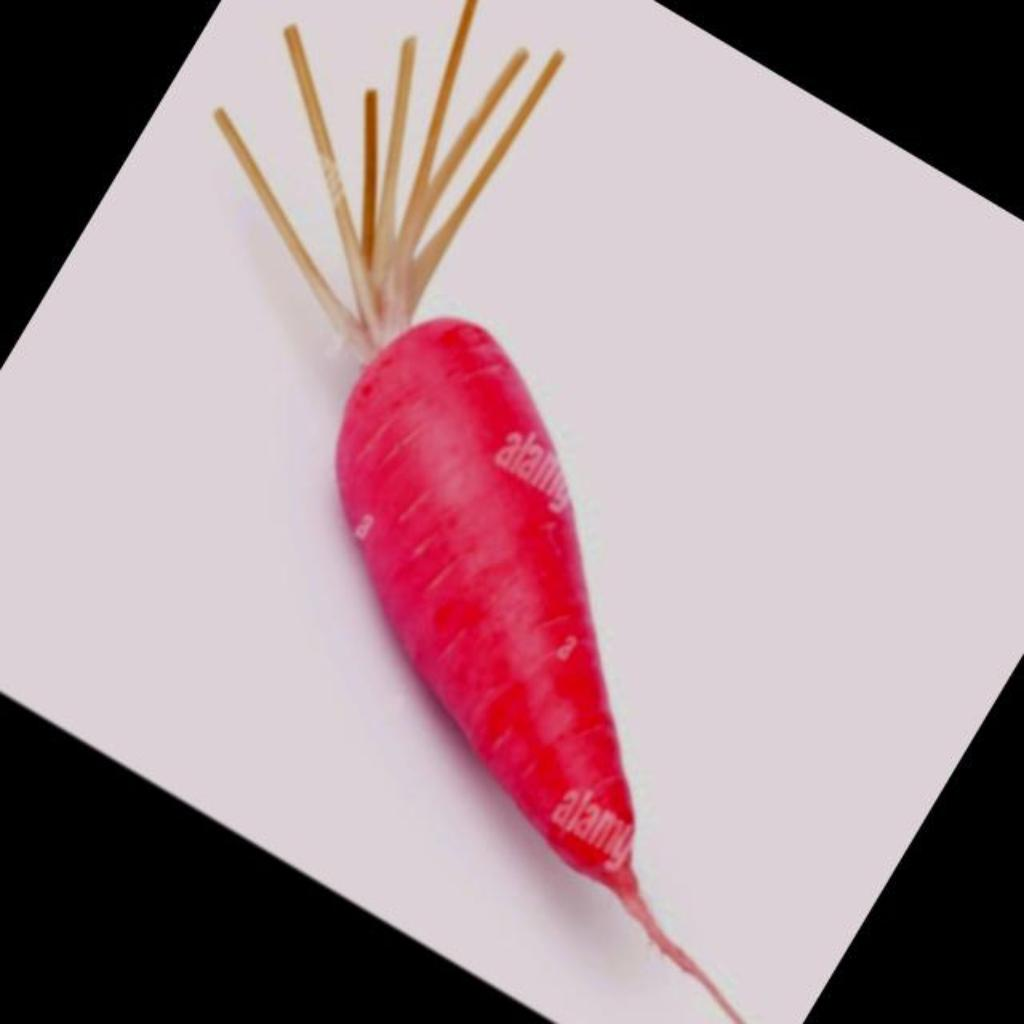carrot: (214, 0, 744, 1024)
